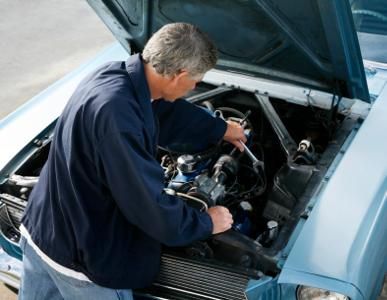person: (19, 24, 248, 300)
